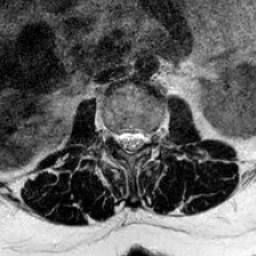CCS_normal: (126, 120, 135, 163)
LFS_normal: (145, 117, 155, 154)
LLS_normal: (135, 120, 145, 158)
RFS_normal: (108, 117, 117, 150)
RLS_normal: (117, 121, 126, 159)
